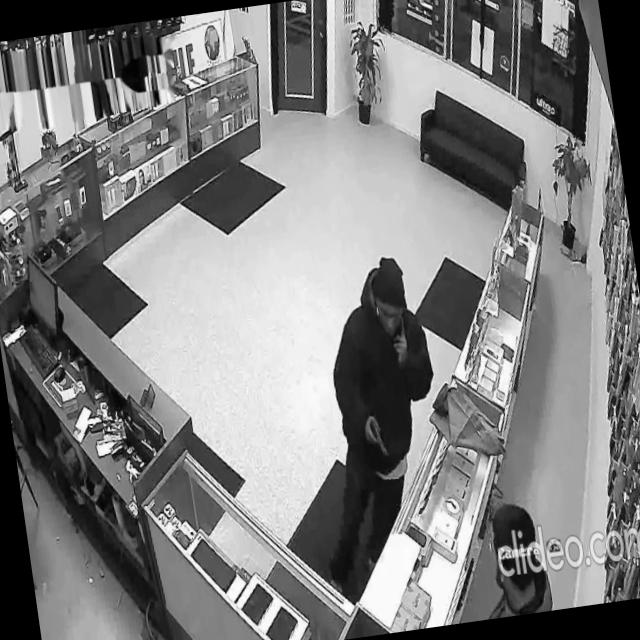gun: (368, 416, 390, 459)
person with a gun: (286, 250, 463, 599)
